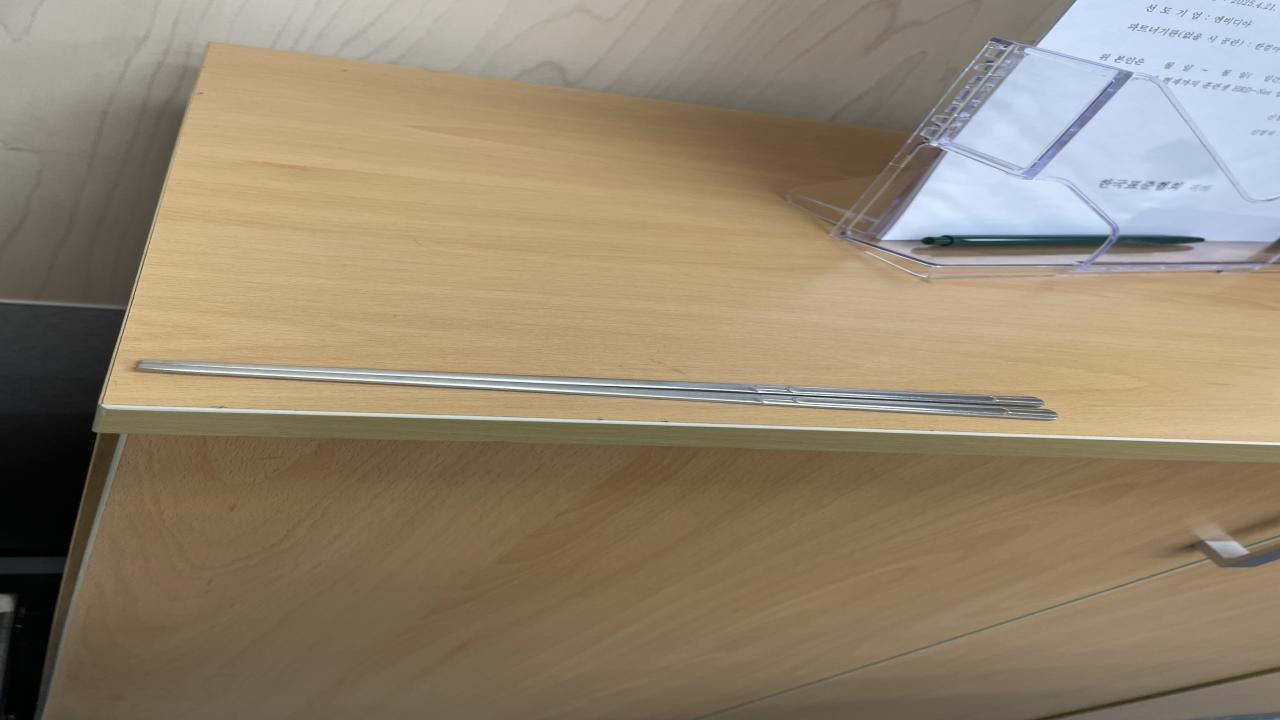chopstick: (137, 359, 1052, 419)
